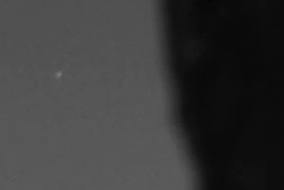Target: (58, 73, 62, 78)
